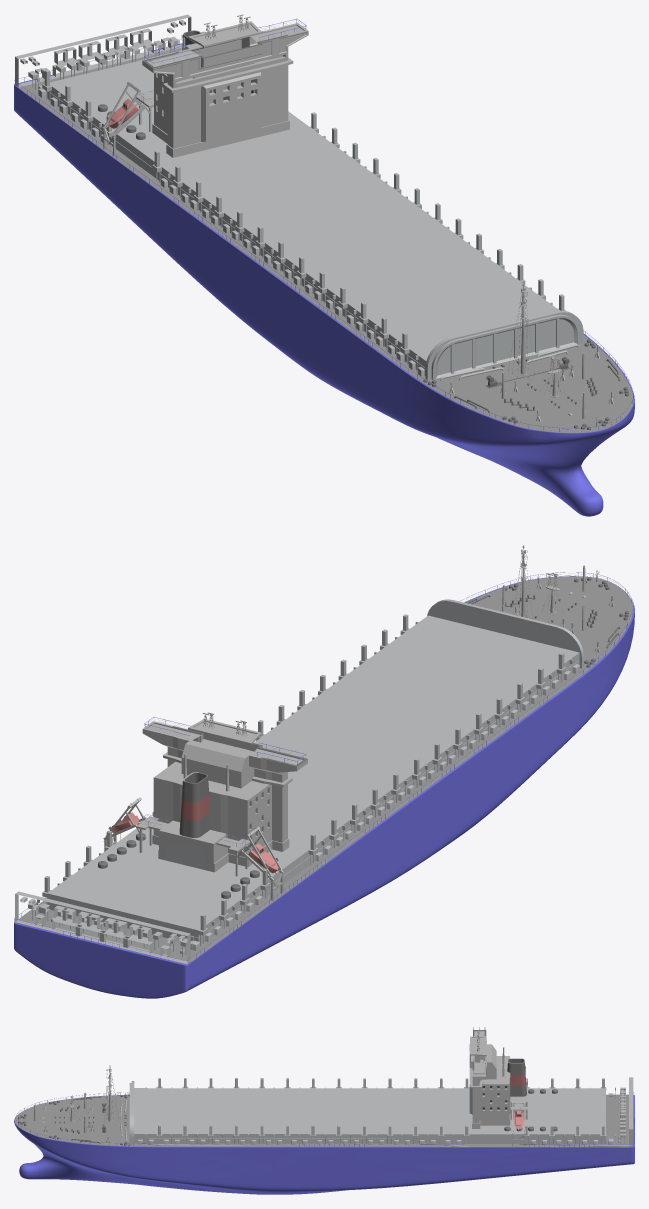
File: Cargo_shipfix.fbx
3 views of the same model, one above another, from view 1: azimuth 30°, elevation 25°; view 2: azimuth 150°, elevation 25°; view 3: azimuth 270°, elevation 25° (orthographic). The views are drawn at different scales.
Visible parts, largest first — view 1: Ship_hull, Ship_deck, Ship_wheelhouse, Ship_side_thingies, Ship_fore_wall, Ship_fore_accs, Ship_railings, Ship_lifeboat_decks, Ship_cockpit_roof; view 2: Ship_deck, Ship_hull, Ship_wheelhouse, Ship_side_thingies, Ship_fore_wall, Ship_lifeboat_decks, Ship_railings, Ship_pipes, Ship_fore_accs, Ship_cockpit_roof, Ship_lifeboats; view 3: Ship_hull, Ship_deck, Ship_side_thingies, Ship_wheelhouse, Ship_fore_accs, Ship_railings, Ship_pipes, Ship_fore_wall, Ship_lifeboat_decks, Ship_cockpit_roof.
Boxes of the visible parts, box(x1,y1,x2,y2) form: Ship_hull: box(14, 43, 634, 516); Ship_deck: box(47, 50, 559, 375); Ship_wheelhouse: box(142, 23, 308, 157); Ship_side_thingies: box(15, 14, 566, 376); Ship_fore_wall: box(425, 310, 583, 379); Ship_fore_accs: box(423, 283, 628, 429); Ship_railings: box(14, 19, 633, 431); Ship_lifeboat_decks: box(102, 82, 153, 156); Ship_cockpit_roof: box(188, 21, 262, 47); Ship_deck: box(47, 615, 579, 943); Ship_hull: box(14, 576, 634, 998); Ship_wheelhouse: box(142, 721, 307, 872); Ship_side_thingies: box(15, 614, 579, 964); Ship_fore_wall: box(427, 599, 583, 668); Ship_lifeboat_decks: box(103, 797, 283, 900); Ship_railings: box(14, 572, 633, 963); Ship_pipes: box(179, 754, 229, 837); Ship_fore_accs: box(466, 545, 628, 667); Ship_cockpit_roof: box(188, 718, 262, 744); Ship_lifeboats: box(111, 812, 278, 873); Ship_hull: box(14, 1094, 634, 1194); Ship_deck: box(134, 1088, 605, 1143); Ship_side_thingies: box(138, 1077, 633, 1146); Ship_wheelhouse: box(469, 1030, 527, 1128); Ship_fore_accs: box(16, 1065, 131, 1145); Ship_railings: box(15, 1027, 634, 1146); Ship_pipes: box(502, 1047, 526, 1096); Ship_fore_wall: box(129, 1081, 134, 1143); Ship_lifeboat_decks: box(510, 1065, 527, 1146); Ship_cockpit_roof: box(469, 1036, 486, 1056).
Bounding box in the file's own units: 5006 × 6555 × 24803.
